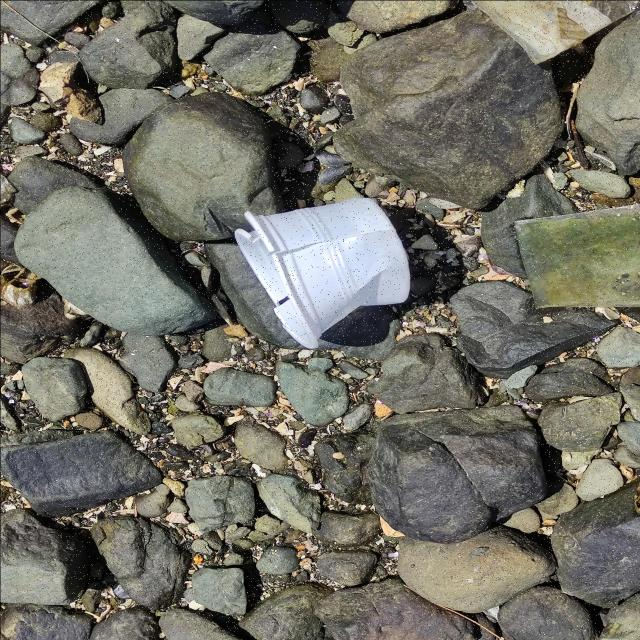plastic_waste: (235, 195, 413, 349)
